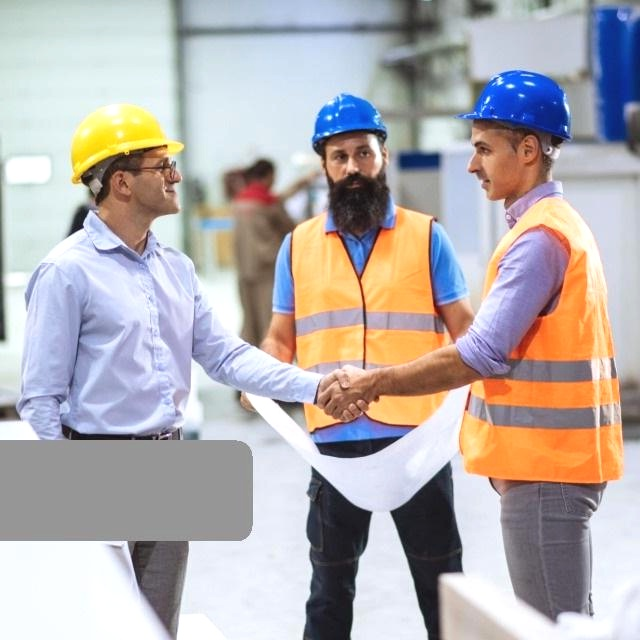Con_Casco: (454, 70, 569, 200), (307, 93, 388, 207)
Con_Chaleco: (456, 204, 620, 480), (290, 210, 449, 430)
Sin_Chaleco: (23, 225, 210, 439)
